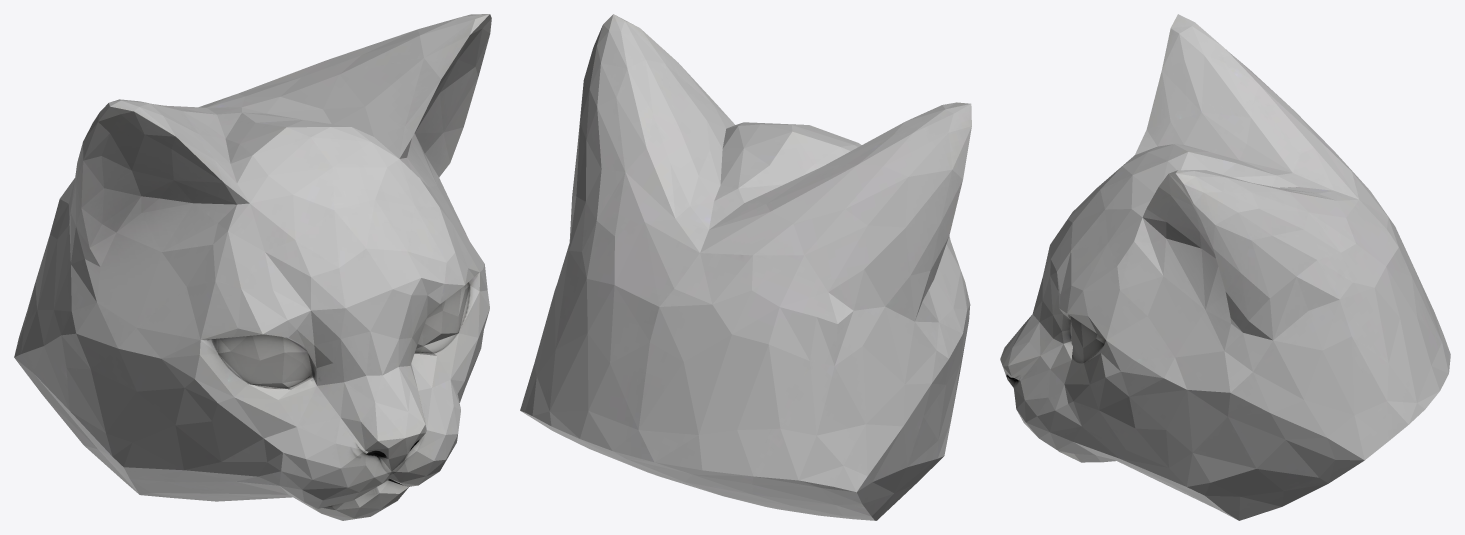
Rendered from cat.glb.
3 renders of one model, left to right at view 1: azimuth 30°, elevation 25°; view 2: azimuth 150°, elevation 25°; view 3: azimuth 270°, elevation 25°, orthographic. The views are drawn at different scales.
Visible parts, largest first — view 1: cat, 球; view 2: cat; view 3: cat, 球.
Boxes of the visible parts, box(x1,y1,x2,y2) form: cat: box(14, 14, 491, 520); 球: box(218, 282, 469, 384); cat: box(520, 14, 971, 520); cat: box(1000, 14, 1450, 520); 球: box(1069, 316, 1105, 363).
Bounding box in the file's own units: 0.881 × 0.9508 × 0.9946.
Materials: 1 (1 with a texture image).
